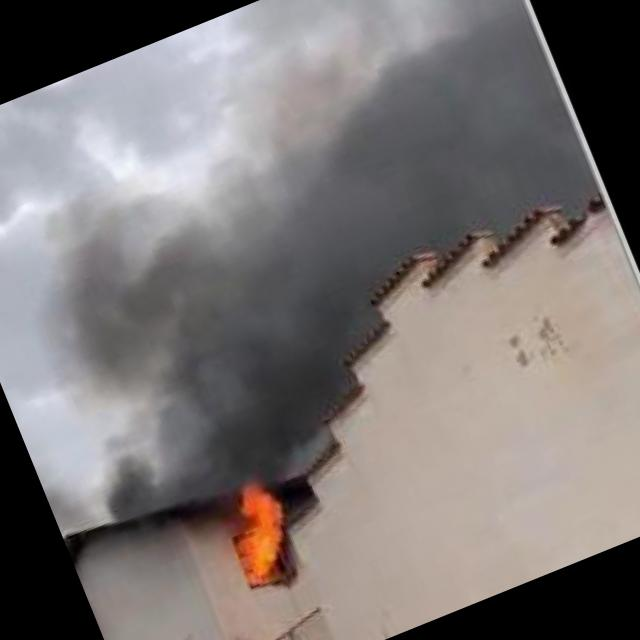fire: (204, 456, 315, 590)
smoke: (0, 13, 629, 520)
